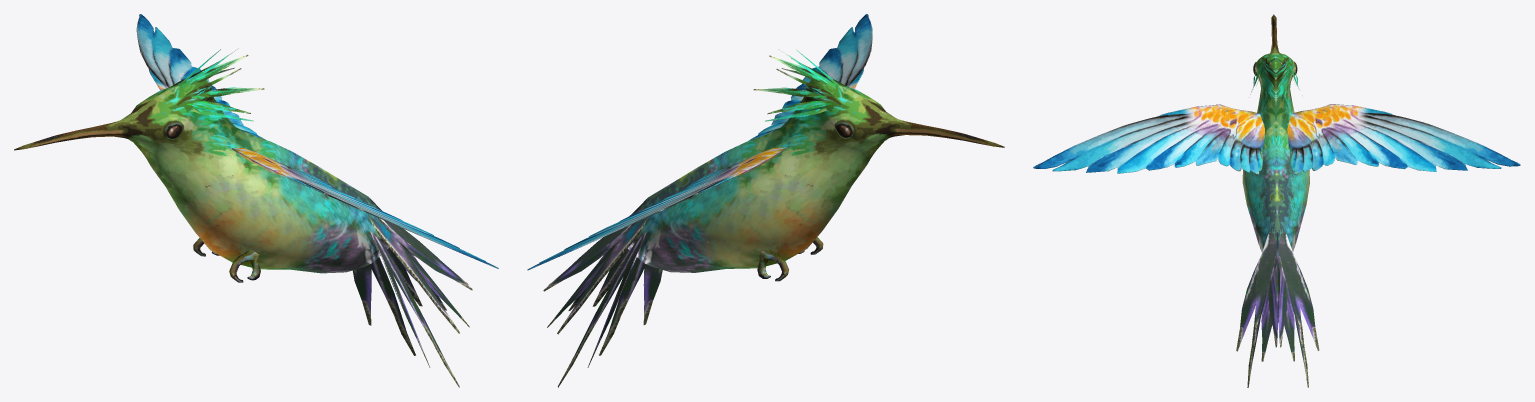
Rendered from humming_bird.obj.
3 views of the same model, side by side, from view 1: azimuth 30°, elevation 25°; view 2: azimuth 150°, elevation 25°; view 3: azimuth 270°, elevation 25° (orthographic). The views are drawn at different scales.
Visible parts, largest first — view 1: Object_7; view 2: Object_7; view 3: Object_7.
Part boxes in pixels (left/top/right/bottom): Object_7: left=14, top=14, right=498, bottom=387; Object_7: left=527, top=14, right=1004, bottom=387; Object_7: left=1033, top=14, right=1520, bottom=387.
Size of the model in its own units: 0.2558 by 0.1979 by 0.3362.
Materials: 1 (1 with a texture image).
